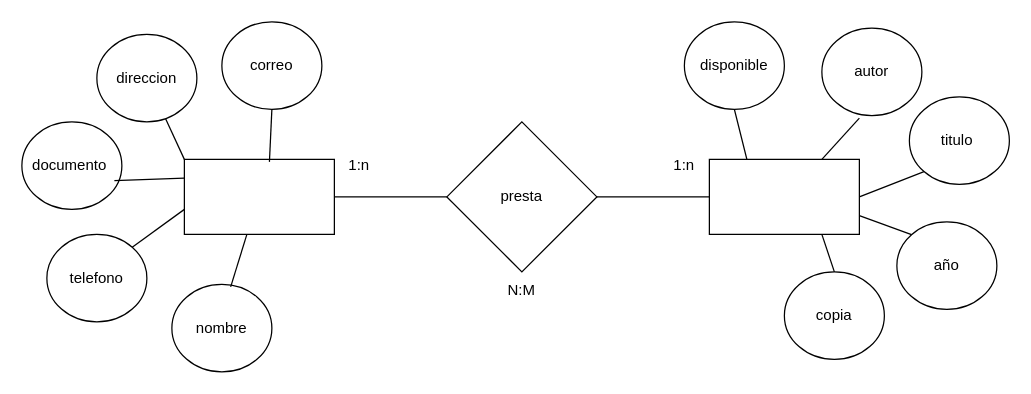
This 1031x394 diagram has some shape labels left out. Here are the shapes that lost their labels. From the top down, the centre of each, then its label:
At pixel 258 196: "usuario".
At pixel 783 196: "libro".
